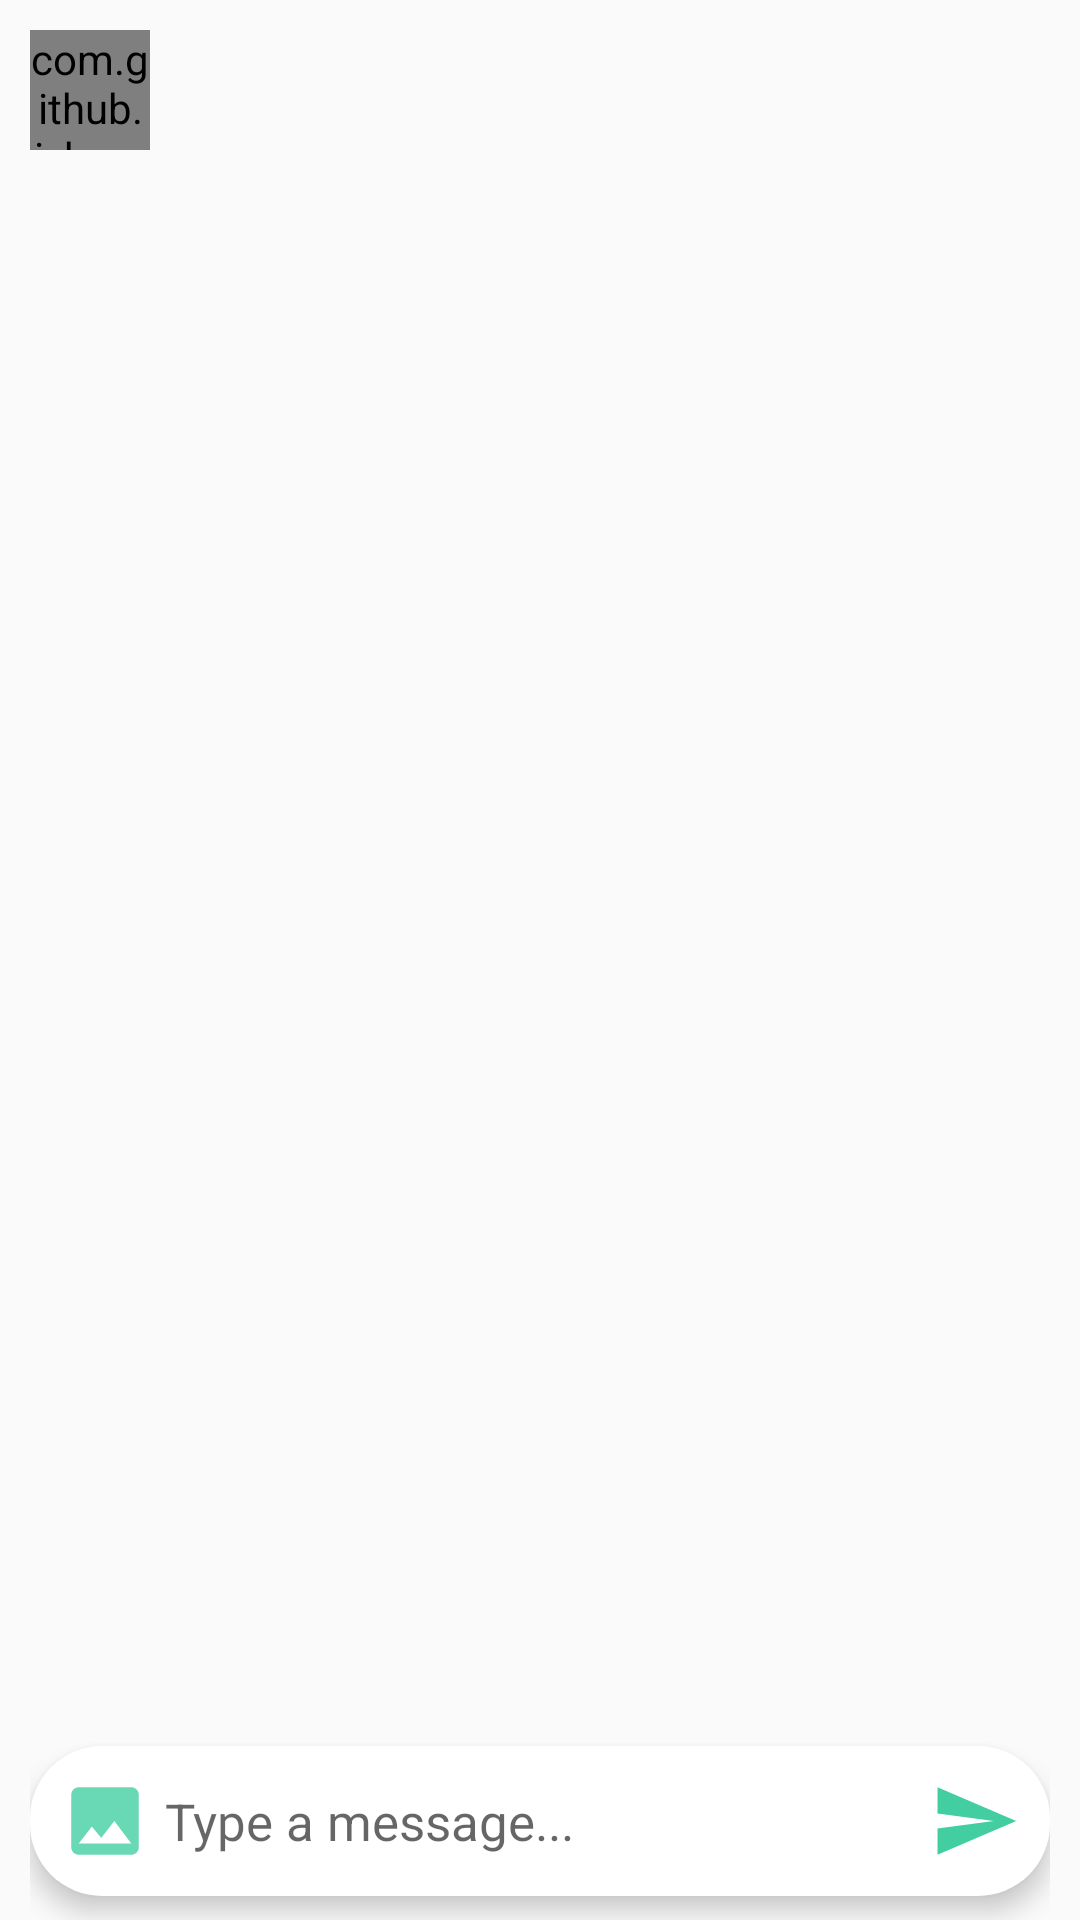

Locate icon controls on the screen. Image size 1080x1920, boxes as (x1, y1, x2, y2).
send: (937, 1787, 1016, 1855)
